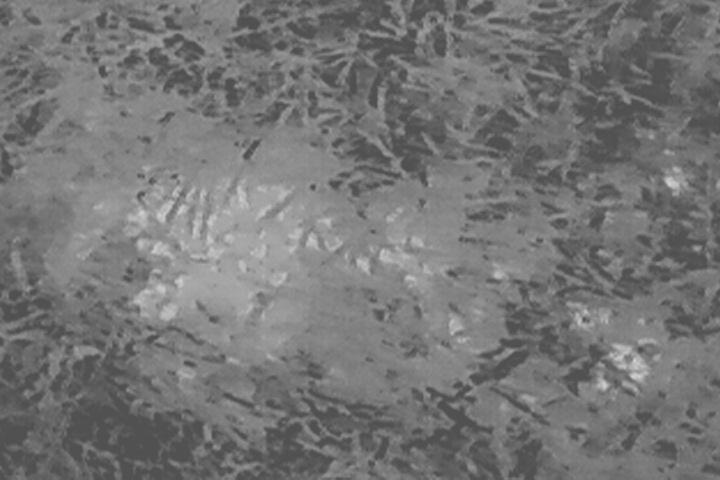landmine: (81, 117, 320, 308)
